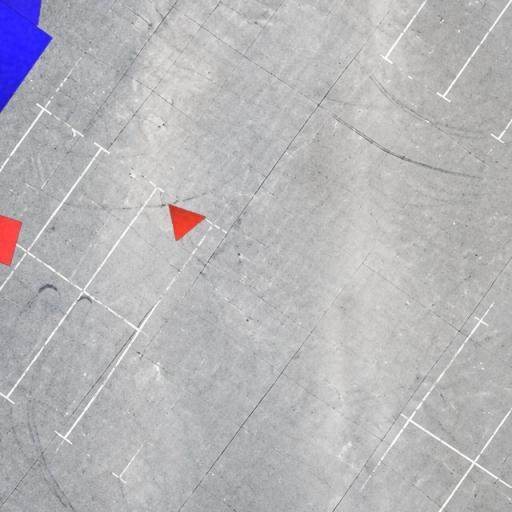BLUE_SQUARE: (0, 0, 54, 120)
RED_SQUARE: (0, 207, 22, 266)
